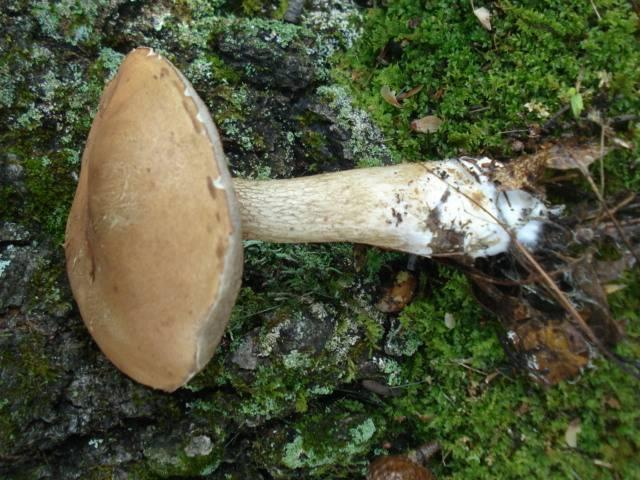poisonous_mushroom: (61, 44, 557, 393)
